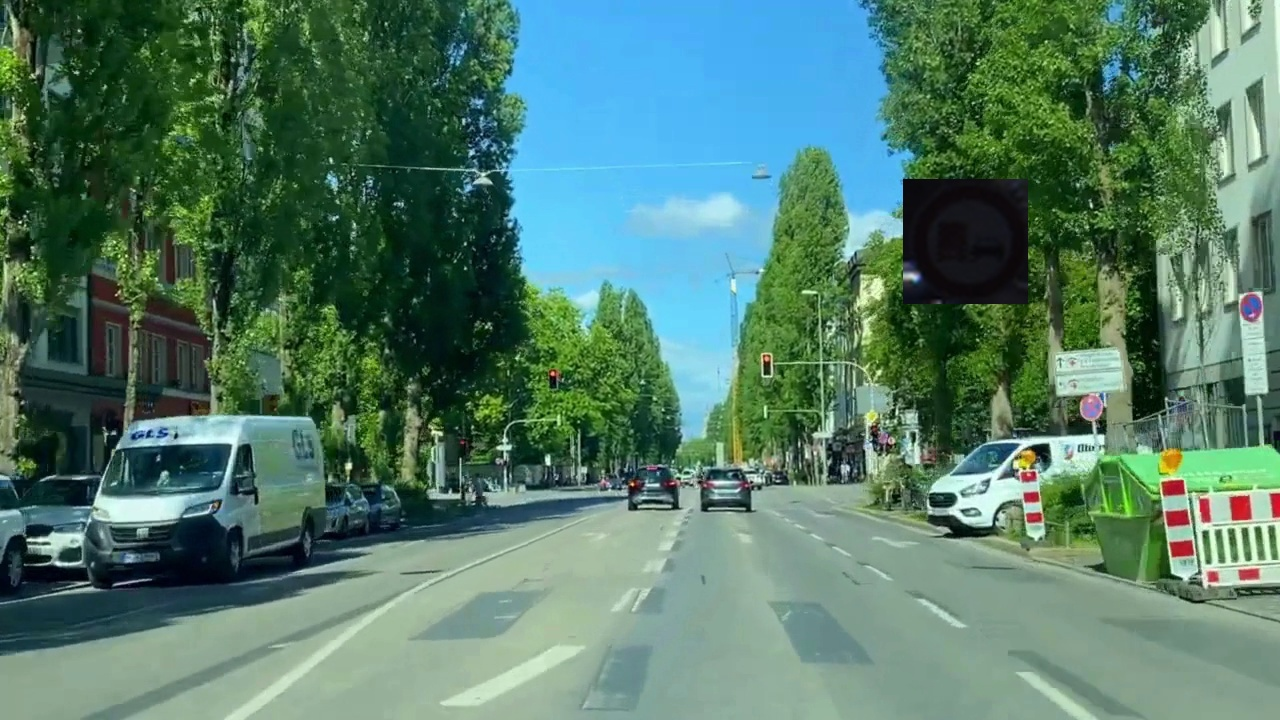No pass >3.5t: (903, 179, 1028, 304)
